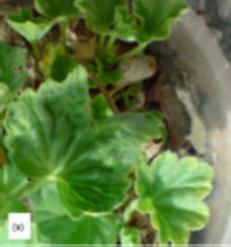Tomato leaf mosaic virus: (6, 68, 169, 219), (128, 153, 215, 242)
